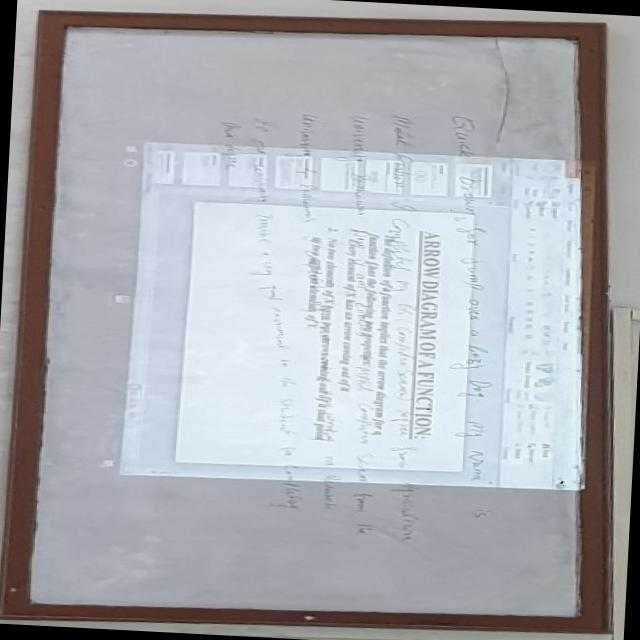Slide: (86, 139, 586, 495)
White-board: (0, 18, 592, 628)
